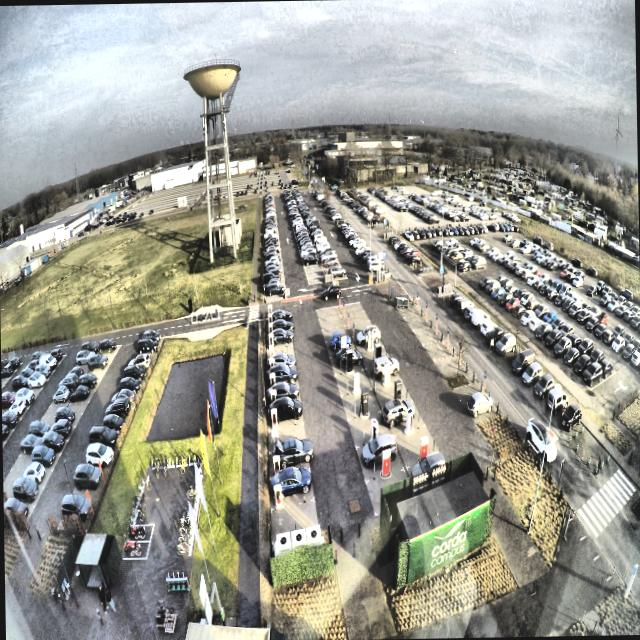cabinet: (275, 526, 322, 550)
car: (269, 462, 312, 499), (270, 436, 313, 469), (267, 395, 303, 425), (266, 361, 299, 385), (266, 381, 299, 403), (265, 351, 296, 371), (265, 336, 294, 355), (267, 318, 294, 335), (268, 327, 294, 342), (271, 308, 293, 323)
parking: (271, 501, 318, 538), (270, 469, 314, 507), (269, 443, 309, 477), (267, 424, 305, 452), (266, 404, 302, 430), (266, 385, 300, 408), (266, 369, 297, 389), (266, 355, 295, 372), (266, 343, 293, 359), (265, 334, 292, 347), (265, 313, 289, 326), (265, 324, 290, 336)
supercharger: (273, 484, 282, 507), (272, 455, 281, 477), (271, 429, 278, 452), (270, 408, 278, 428), (269, 372, 275, 389), (270, 389, 276, 405), (269, 357, 275, 372), (268, 345, 274, 358), (268, 333, 273, 345), (267, 312, 272, 323), (268, 322, 272, 333), (267, 304, 271, 314)
